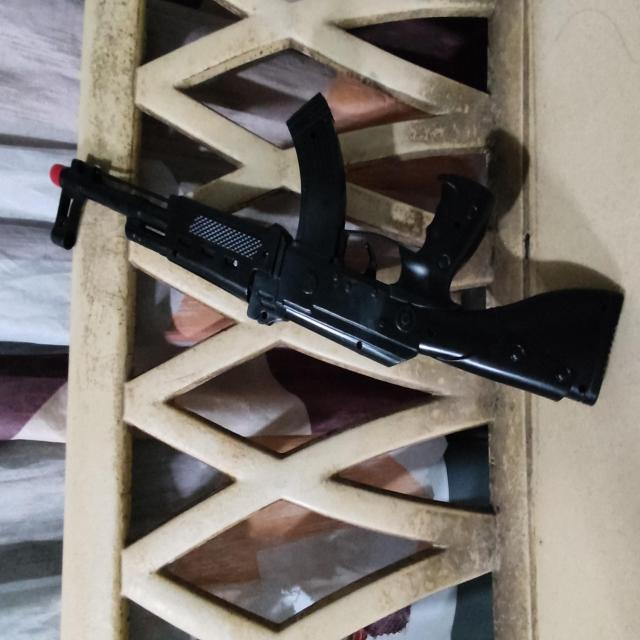rifle: (49, 92, 626, 406)
